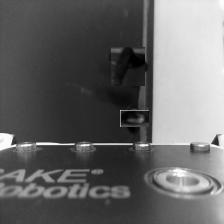Door Handle: (110, 48, 147, 85)
Lock: (123, 107, 146, 130)
